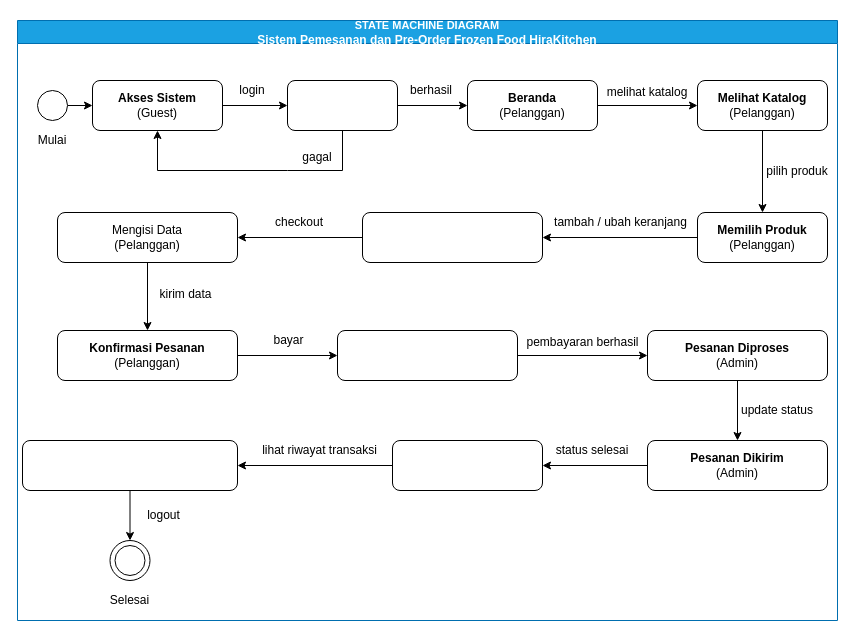
This 855x638 diagram has some shape labels left out. Here are the shapes that lost their labels. From the top down, the box of each, then its label:
(286, 80, 398, 130): Login (User)
(362, 212, 542, 262): Mengelolah Keranjang (Pelanggan)
(336, 330, 518, 380): Menunggu Pembayaran (Pelanggan)
(22, 440, 238, 490): Kelolah Transaksi Pelanggan (Admin)
(392, 440, 542, 490): Transaksi Selesai (Pelanggan)
